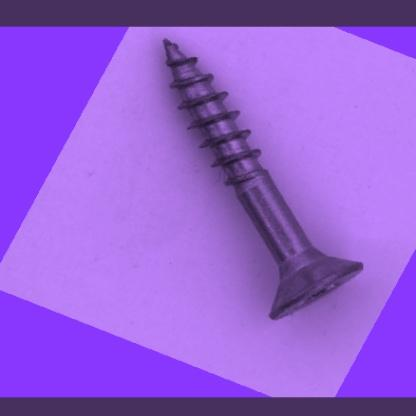metal: (162, 38, 365, 321)
